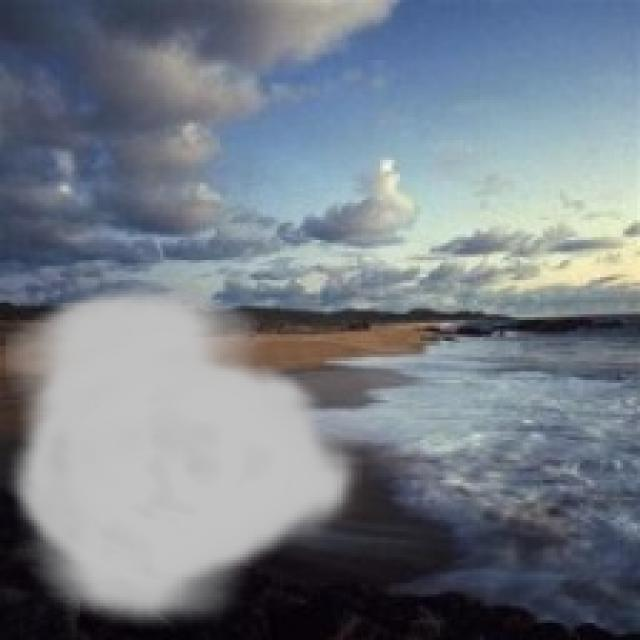smoke: (6, 283, 363, 634)
